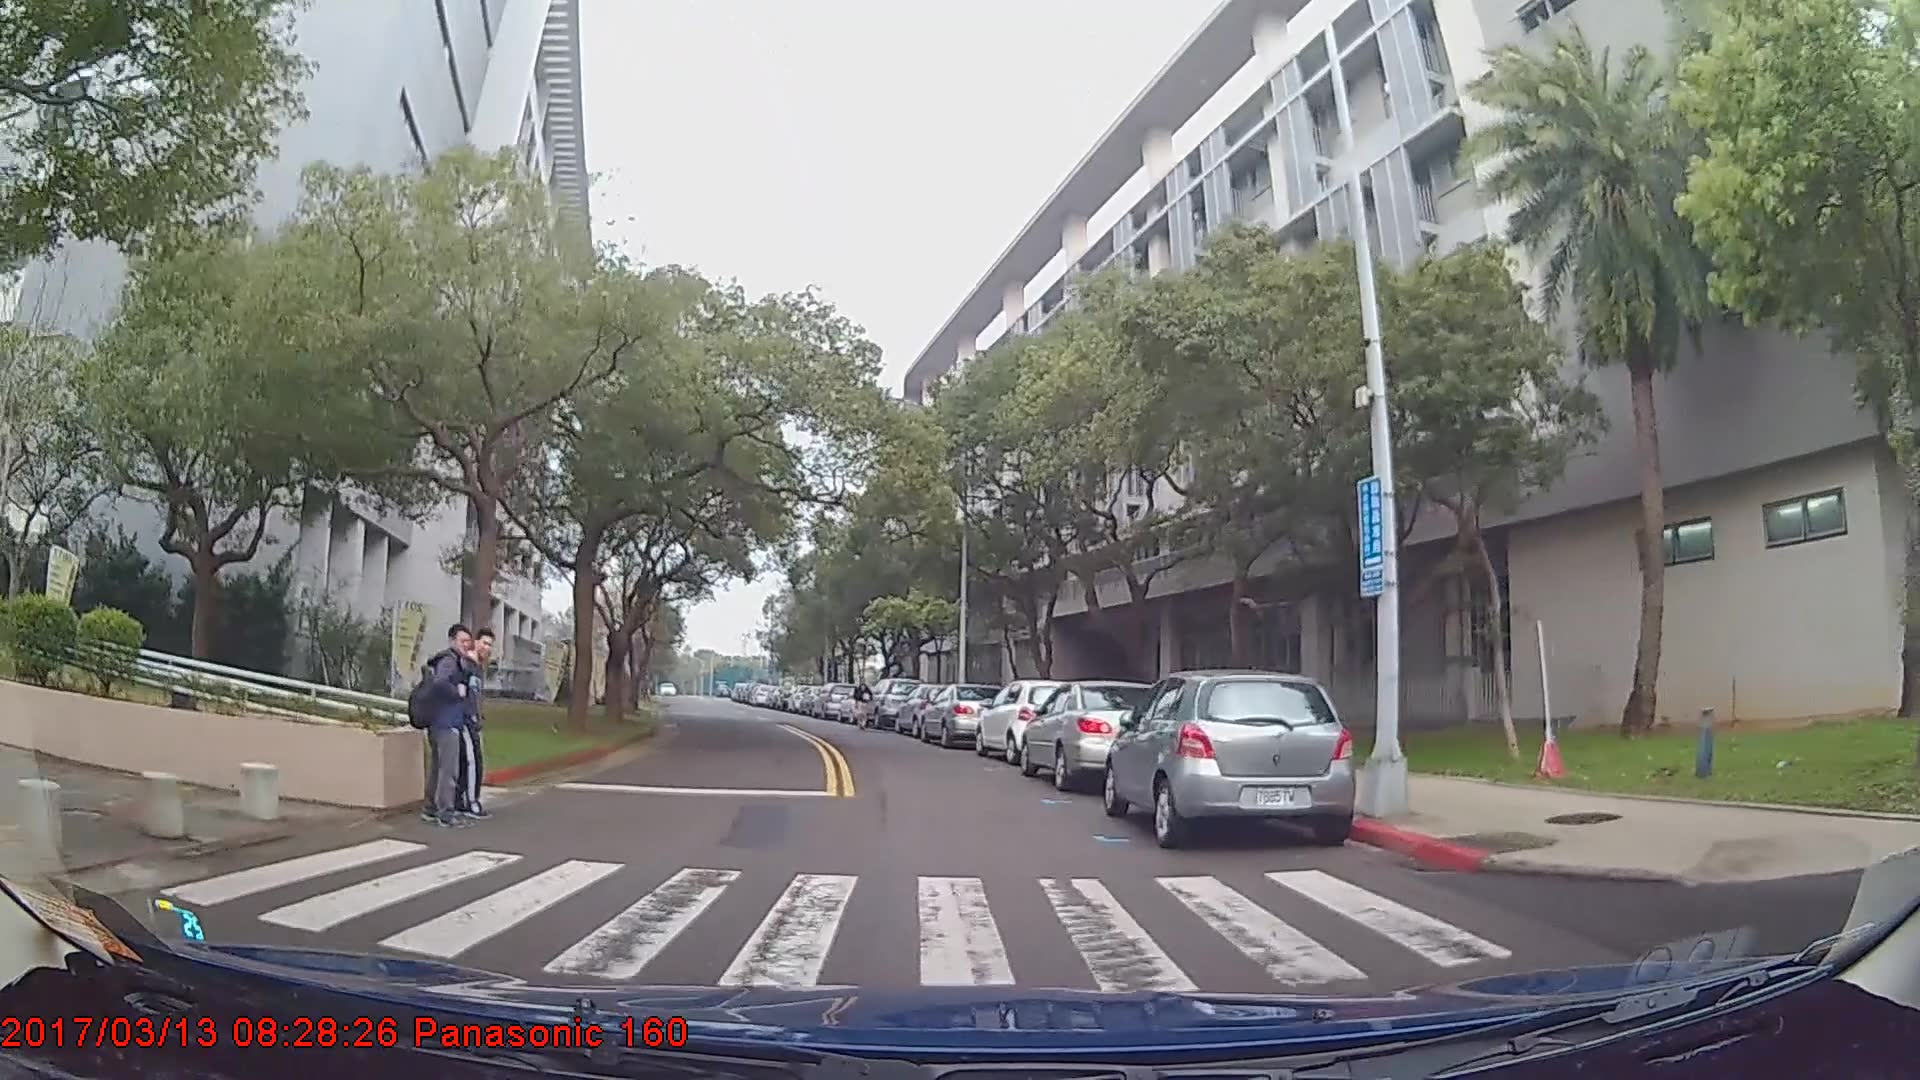pedestrian: (409, 631, 501, 834), (400, 626, 482, 835), (855, 676, 876, 732)
vehicle: (1104, 665, 1358, 849), (1019, 677, 1178, 791), (974, 677, 1081, 764), (919, 680, 1009, 747), (894, 680, 965, 737), (859, 673, 926, 727), (808, 679, 860, 719)
